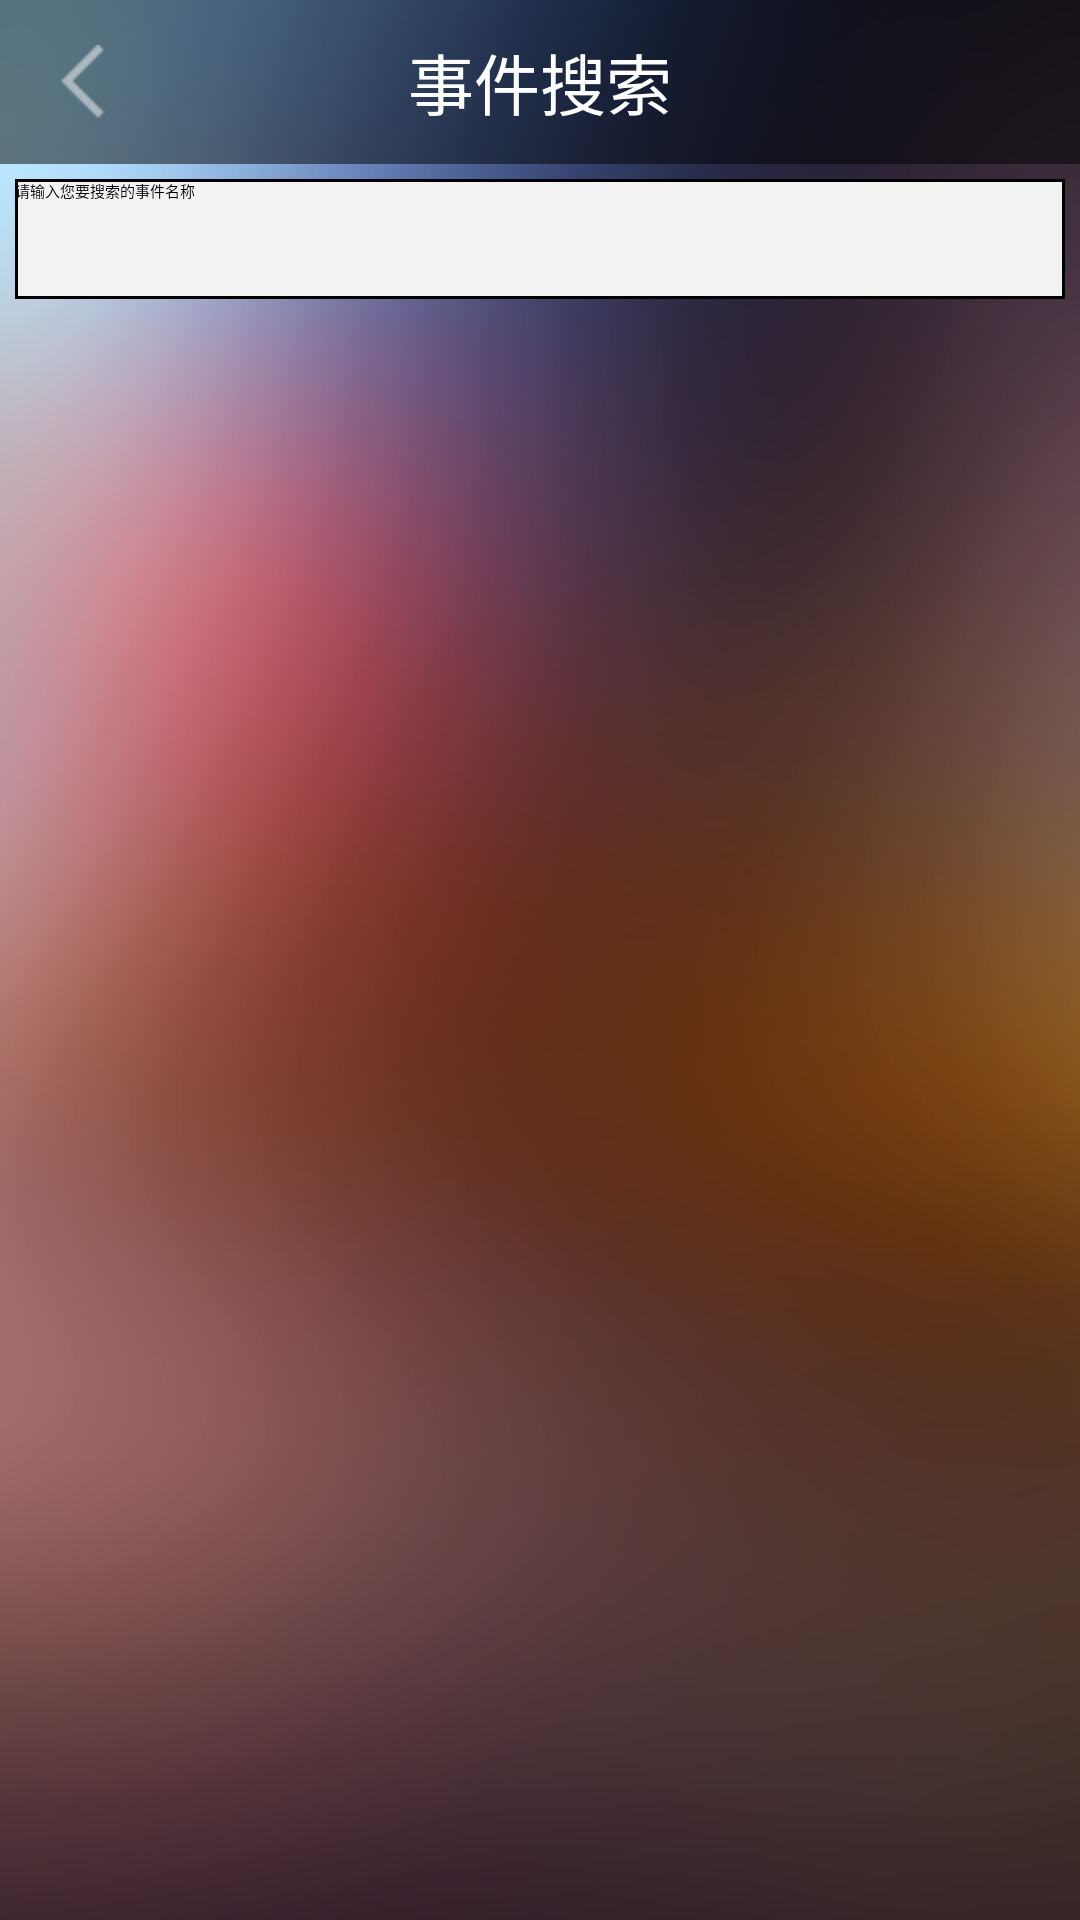

Named icons in this screenshot (1080px×1920px) and their centers, (x,y):
left arrow: (84,82)
